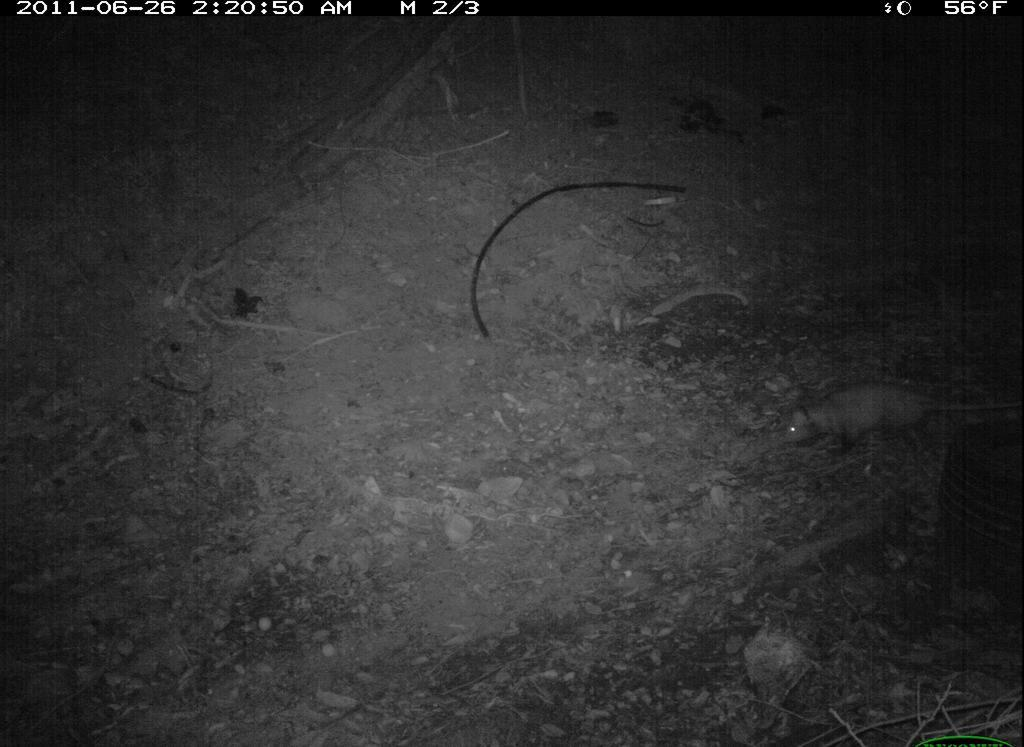opossum: (758, 376, 1012, 466)
